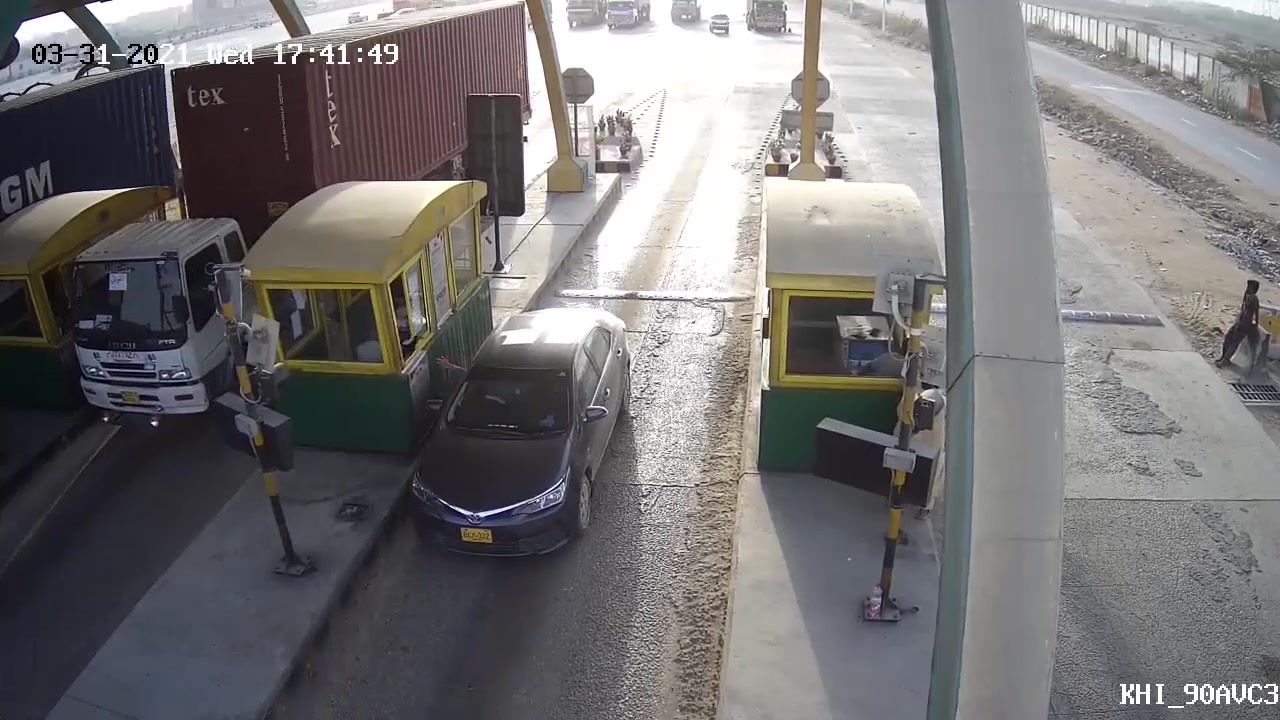F1: (402, 300, 636, 568)
